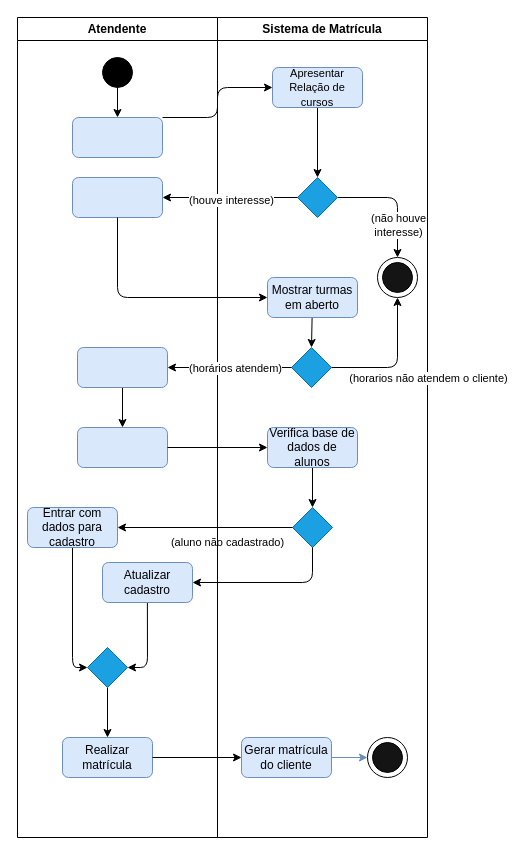
The diagram is 524 pixels wide and 855 high, and some of its shapes have lost their labels. The shapes that lost their labels are listed below. From the top down, each one's centre as x and y in pixels, then its label:
point (117, 137): Solicitar relação de cursos
point (117, 197): Selecionar Curso
point (122, 367): Selecionar turma
point (122, 447): Verificar Aluno
